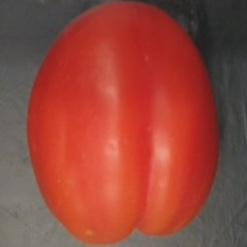unripe: (21, 1, 228, 247)
